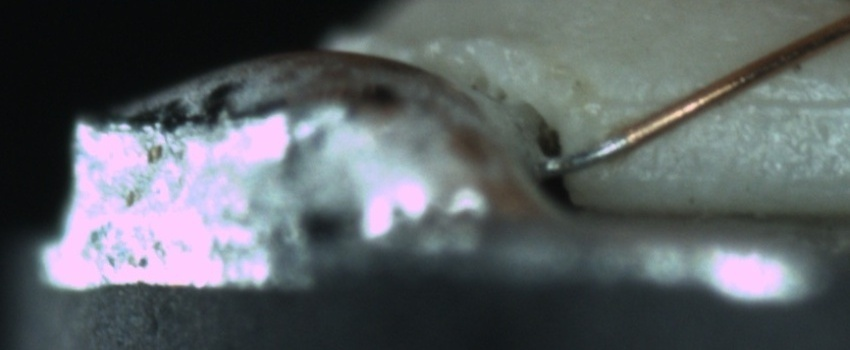DL: (625, 72, 849, 130)
TS: (542, 132, 628, 176)
